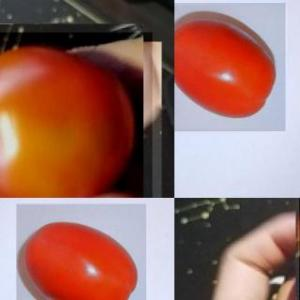tomato: (0, 32, 152, 198), (174, 3, 284, 131), (17, 204, 147, 300)
